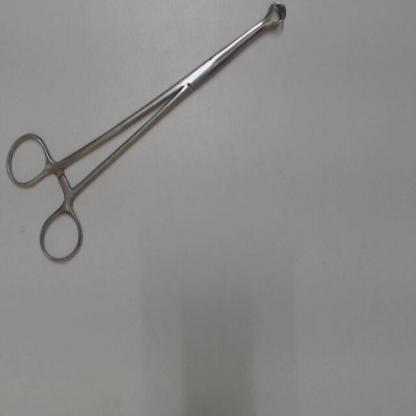8 Babcock Tissue Forceps: (3, 0, 291, 270)
